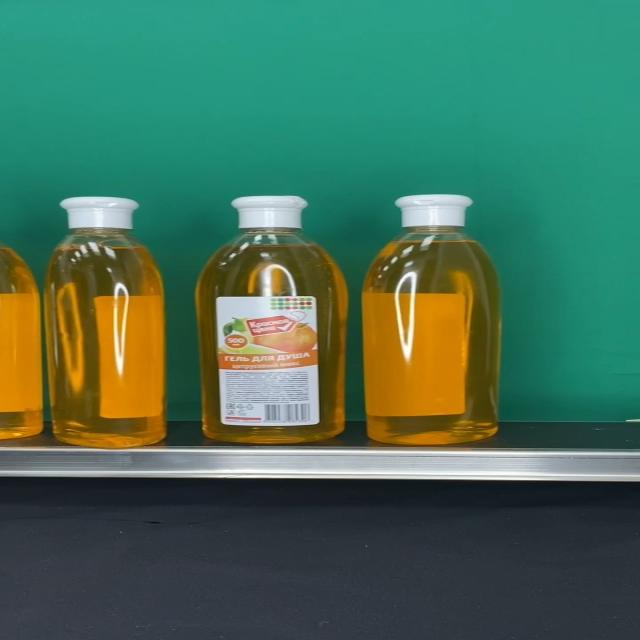Bottle: (195, 195, 347, 443), (361, 194, 502, 442), (44, 195, 166, 448)
Cap: (394, 194, 473, 228), (60, 196, 140, 229), (228, 196, 308, 228)
